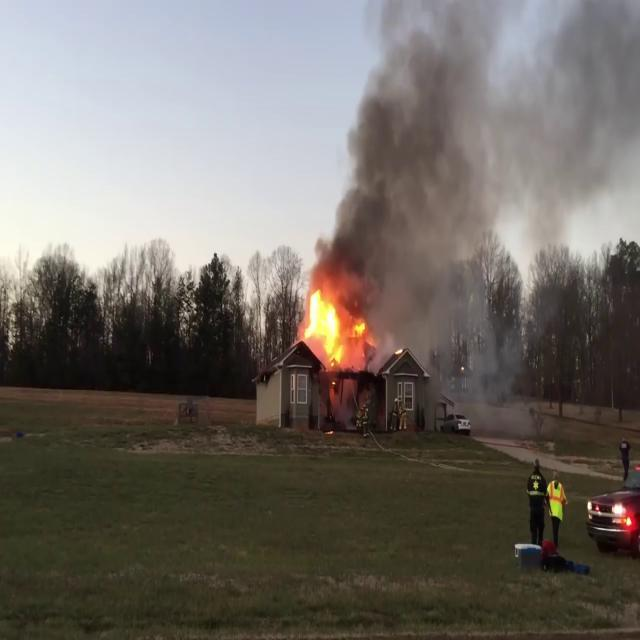Fire: (300, 283, 360, 366)
Smoke: (314, 0, 639, 324)
